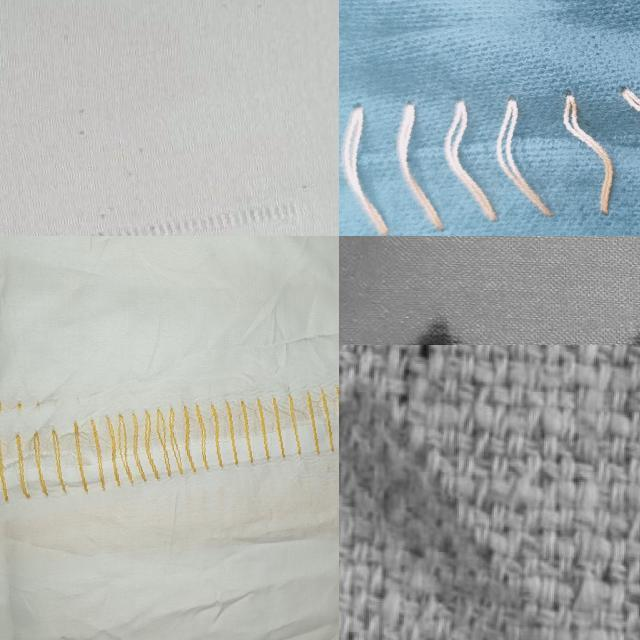Hole: (377, 283, 513, 345), (590, 281, 640, 345)
Stitch: (339, 0, 640, 236), (0, 353, 339, 511)
Thread_other: (0, 88, 339, 236)
